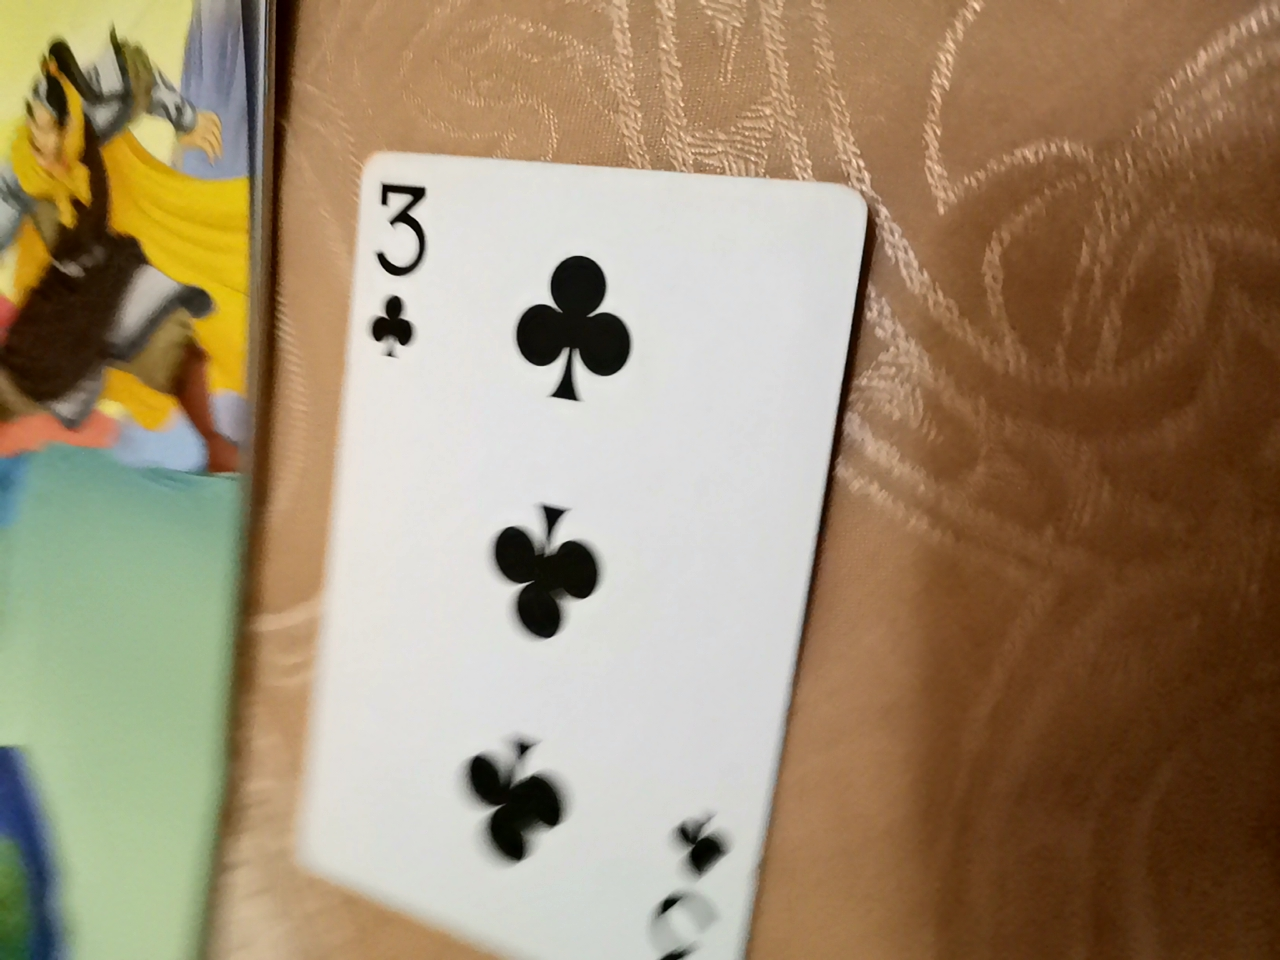mh 3: (368, 164, 839, 945)
